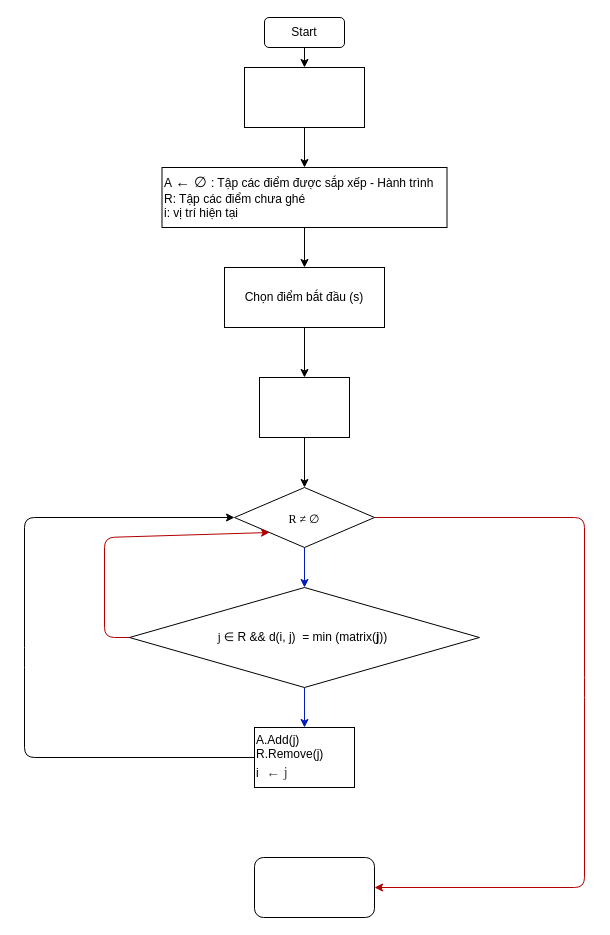
This 610x935 diagram has some shape labels left out. The box of each missing label's shape, as (x1, y1, x2, y2) in pixels:
A.Add(s) R.Remove(s) i ← s: (258, 376, 350, 438)
Danh sách điểm và ma trận khoảng cách: (244, 66, 364, 128)
Return A: (254, 856, 374, 918)
